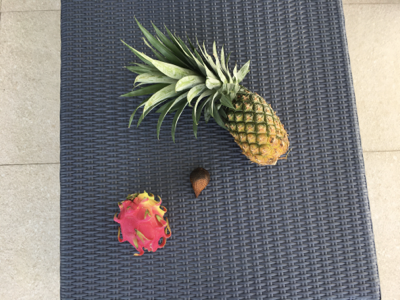dragon fruit: (114, 192, 172, 256)
pineapple: (120, 17, 290, 167)
snake fruit: (190, 169, 210, 199)
